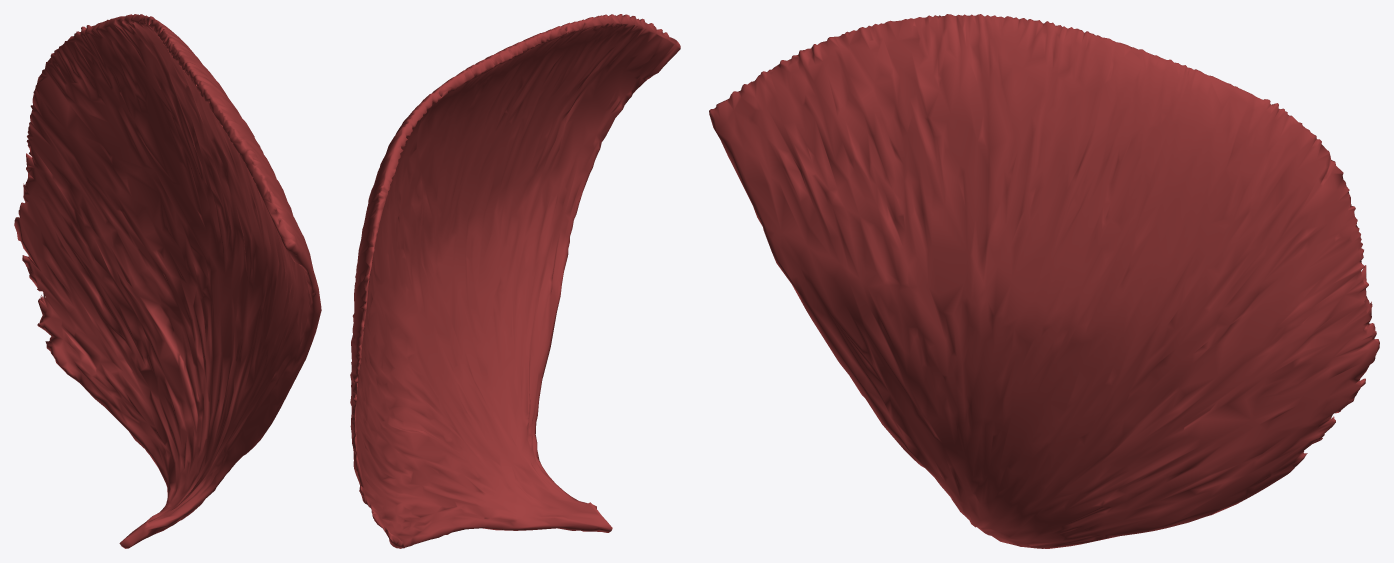
File: temporoparietalis-muscle-l.glb
The picture shows the model from 3 angles, left to right: view 1: azimuth 30°, elevation 25°; view 2: azimuth 150°, elevation 25°; view 3: azimuth 270°, elevation 25°; orthographic projection. The views are drawn at different scales.
Parts seen in each view (by area): view 1: Temporoparietalis muscle.l; view 2: Temporoparietalis muscle.l; view 3: Temporoparietalis muscle.l.
Boxes of the visible parts, x1=… form: Temporoparietalis muscle.l: x1=14, y1=14, x2=321, y2=548; Temporoparietalis muscle.l: x1=350, y1=14, x2=680, y2=548; Temporoparietalis muscle.l: x1=709, y1=14, x2=1379, y2=548.
Bounding box in the file's own units: 0.0382 × 0.1029 × 0.1168.
